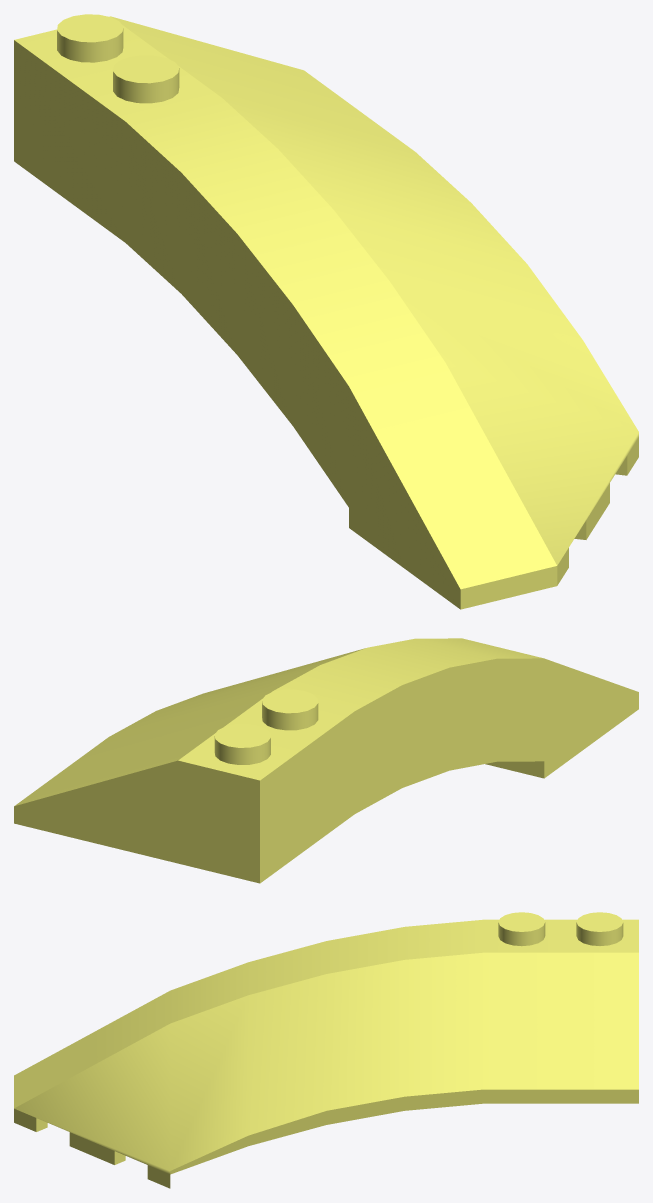
3 renders of one model, top to bottom at view 1: azimuth 30°, elevation 25°; view 2: azimuth 150°, elevation 25°; view 3: azimuth 270°, elevation 25°, orthographic. The views are drawn at different scales.
Visible parts, largest first — view 1: 41749.dat; view 2: 41749.dat; view 3: 41749.dat.
Boxes of the visible parts, bbox=[...] form: 41749.dat: bbox=[14, 14, 638, 609]; 41749.dat: bbox=[14, 638, 638, 883]; 41749.dat: bbox=[14, 912, 638, 1188].
Bounding box in the file's own units: 0.024 × 0.0208 × 0.064.
